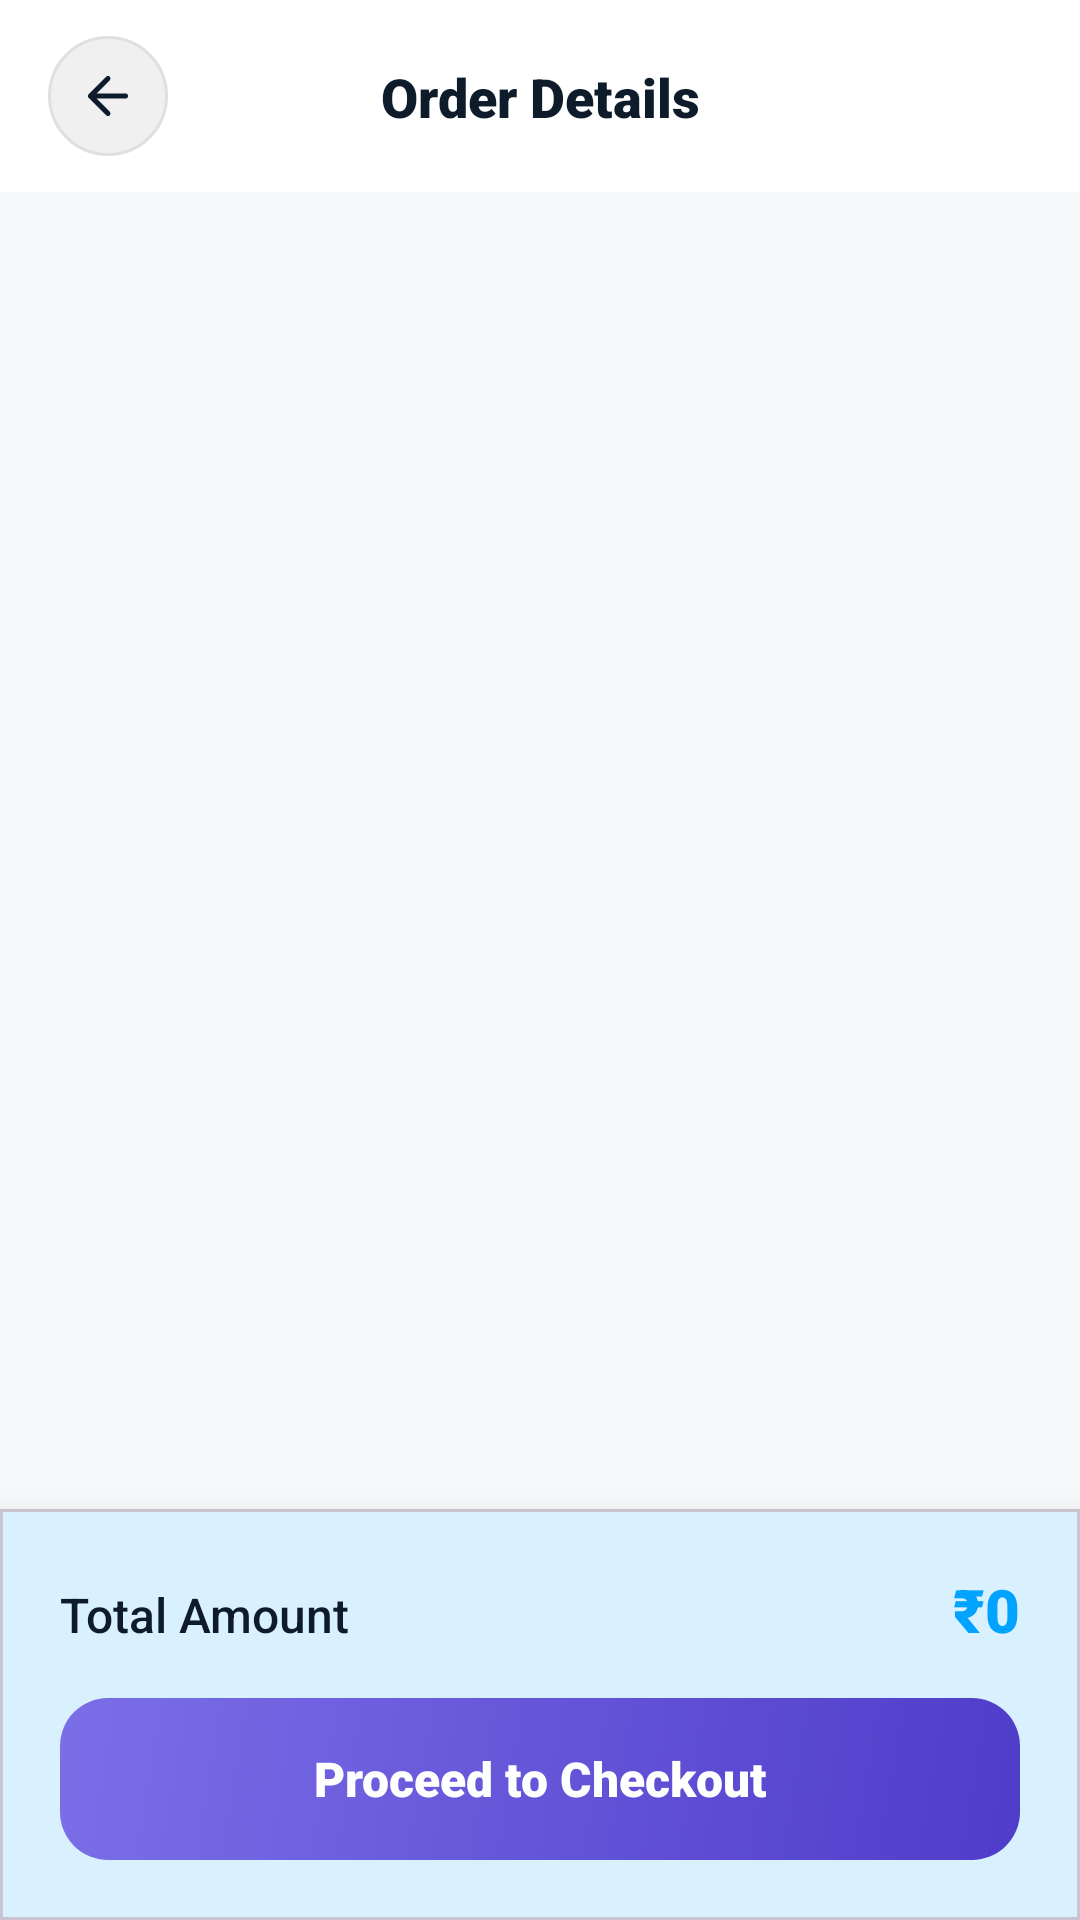

Screen size 1080x1920. Icon name, then its box in pixels as [x1=x1, y1=y1, x2=x2, y2=y2]:
arrow back: [x1=48, y1=36, x2=168, y2=156]
